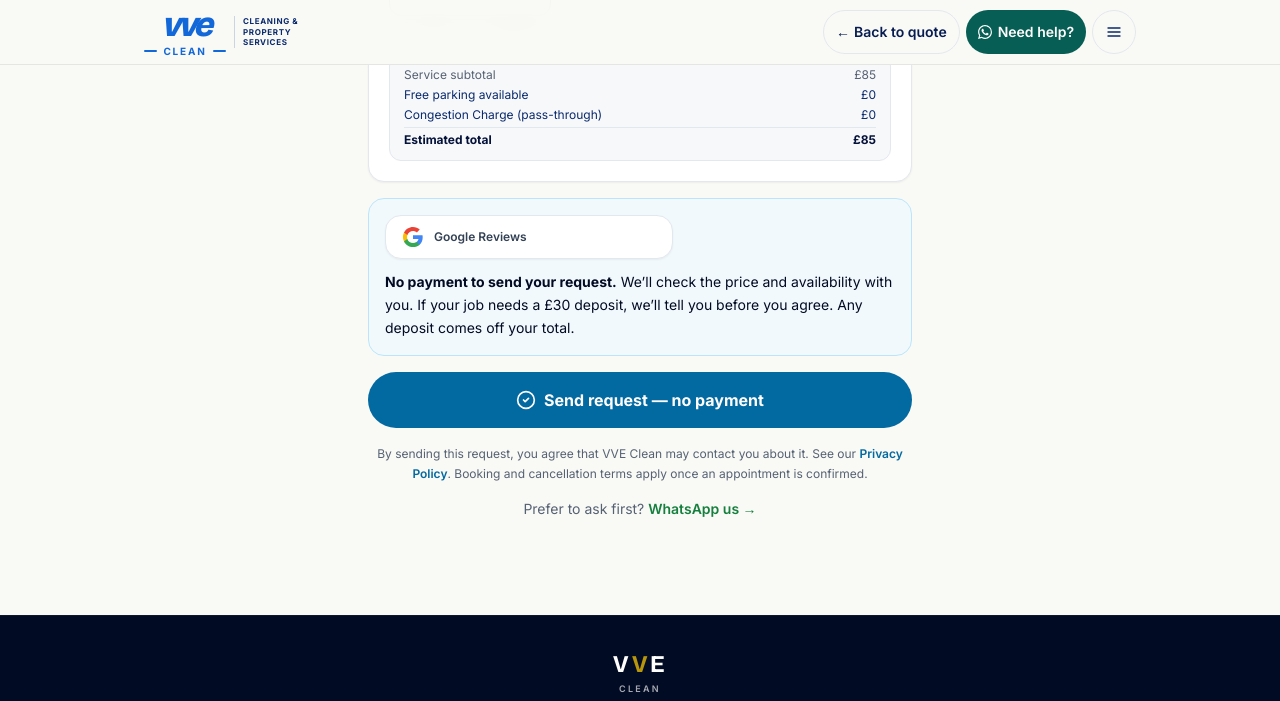
Test: booking acknowledgement and request validation › uses the London calendar day near summer midnight, irrespective of device zone
This screenshot has width=1280, height=701.
(page scrolled)
Click the button "Send request — no payment" at (640,400), box [368,372,912,428]
(page scrolled)
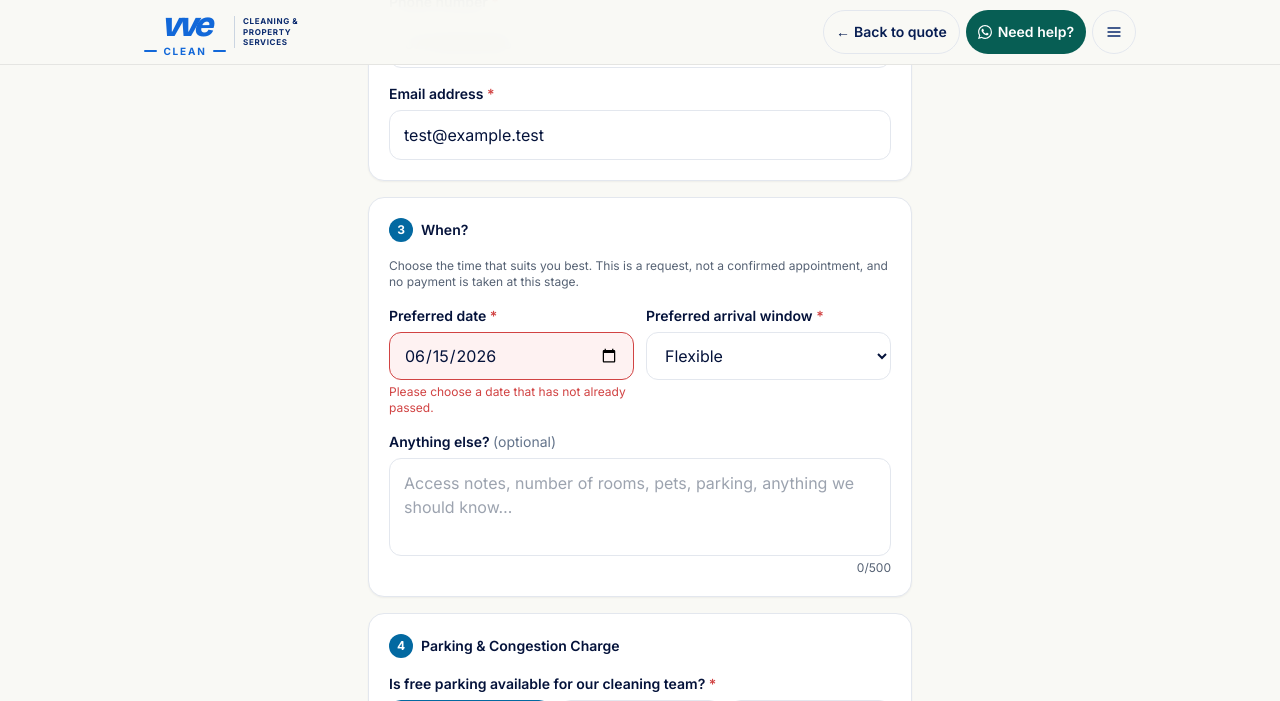
Expected: the text "Please choose a date that has not already passed." is shown, [389,384,634,416]
